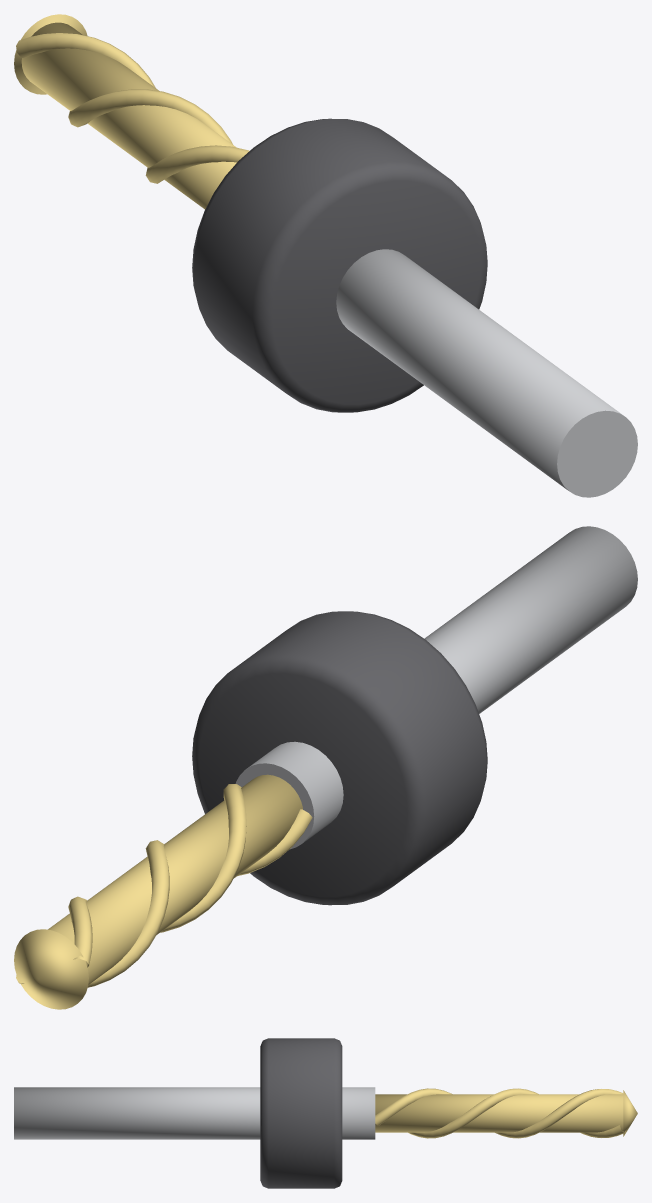
Rendered from drill18_3.glb.
3 views of the same model, one above another, from view 1: azimuth 30°, elevation 25°; view 2: azimuth 150°, elevation 25°; view 3: azimuth 270°, elevation 25° (orthographic). The views are drawn at different scales.
Parts seen in each view (by area): view 1: Cylinder.002, Cylinder.001, Cylinder, flute, flute.001, Cone; view 2: Cylinder.002, Cylinder.001, Cylinder, Cone, flute, flute.001; view 3: Cylinder.001, Cylinder.002, Cylinder, flute, flute.001, Cone.
Part boxes in pixels (box(x1,y1,x2,y2)): Cylinder.002: box(192, 118, 487, 412); Cylinder.001: box(336, 249, 637, 497); Cylinder: box(21, 22, 236, 209); flute: box(16, 33, 249, 183); flute.001: box(68, 89, 232, 144); Cone: box(14, 14, 87, 94); Cylinder.002: box(192, 611, 487, 905); Cylinder.001: box(235, 526, 637, 849); Cylinder: box(48, 774, 302, 984); Cone: box(14, 929, 88, 1009); flute: box(68, 784, 246, 967); flute.001: box(16, 809, 312, 987); Cylinder.001: box(14, 1087, 375, 1139); Cylinder.002: box(260, 1038, 342, 1188); Cylinder: box(375, 1094, 623, 1132); flute: box(375, 1088, 623, 1138); flute.001: box(408, 1088, 625, 1138); Cone: box(623, 1090, 637, 1136).
Size of the model in its own units: 0.00917 by 0.00917 by 0.038.
